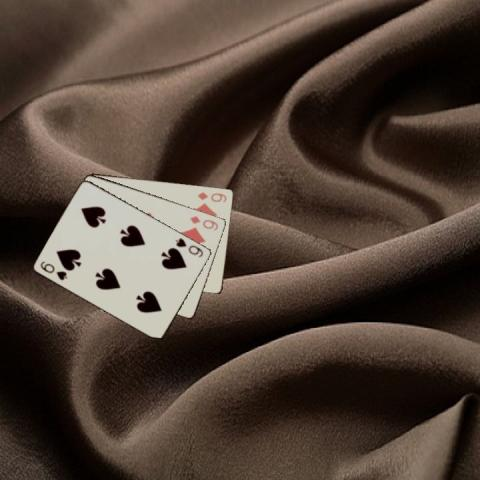6d: (187, 213, 220, 232), (195, 189, 228, 203)
6s: (172, 234, 204, 258), (37, 258, 69, 281)
